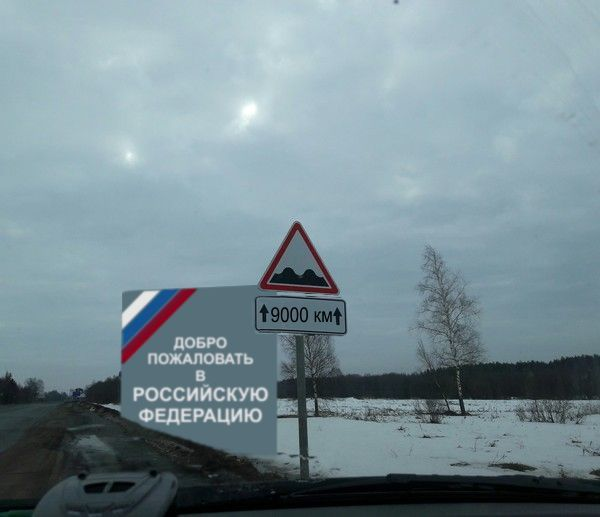1.16.2: (258, 225, 347, 295)
